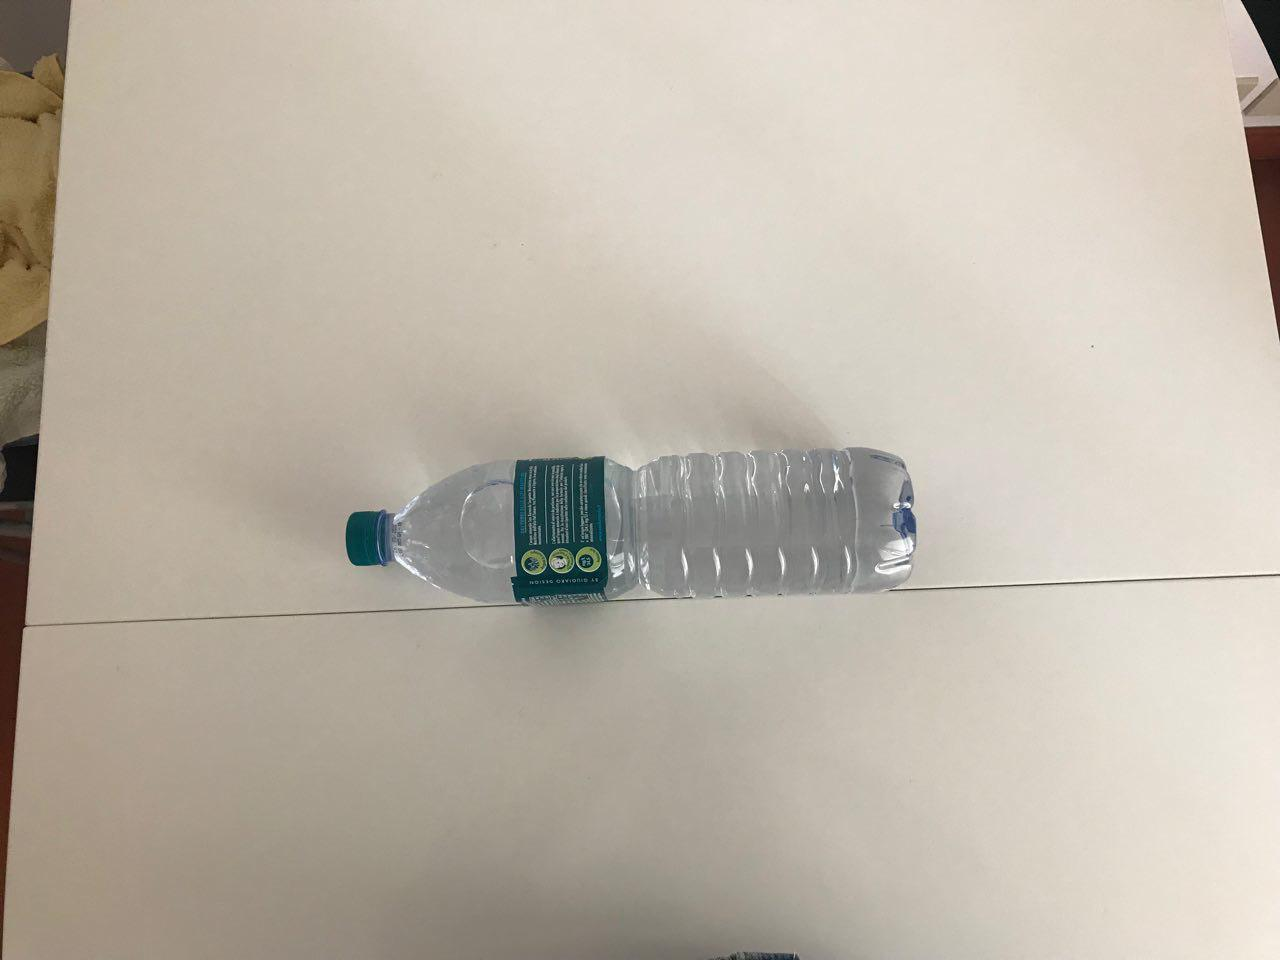san_bernardo: (345, 445, 918, 607)
